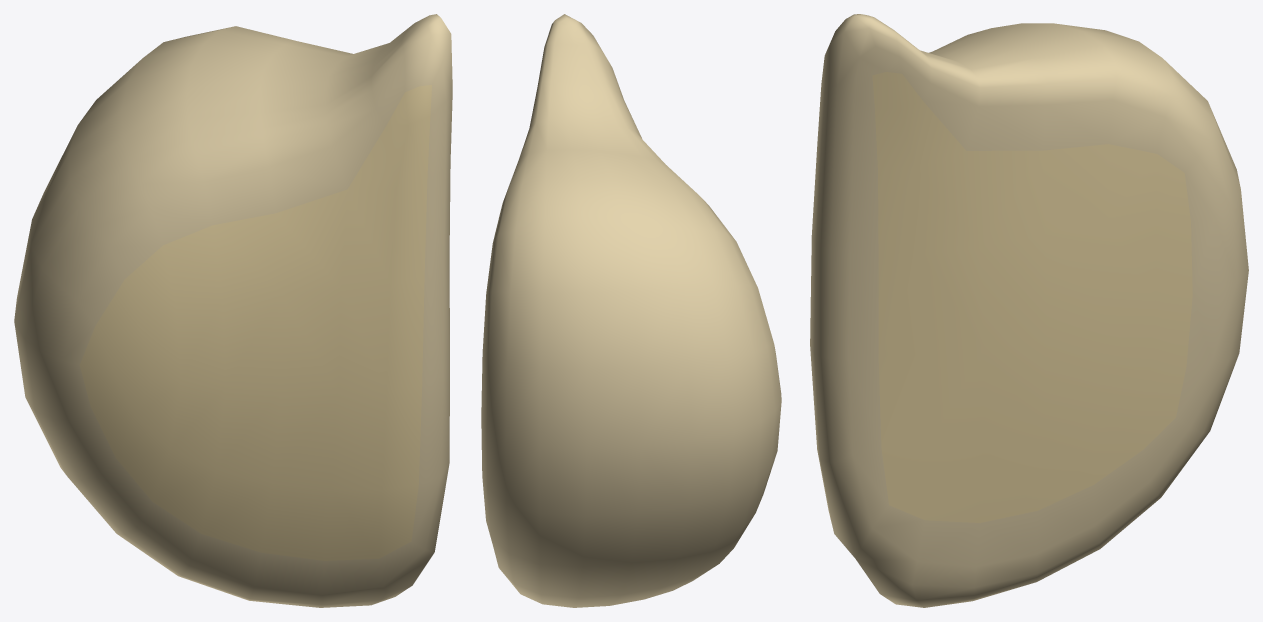
The model's file is Garlicclove_01.dae.
The picture shows the model from 3 angles, left to right: view 1: azimuth 30°, elevation 25°; view 2: azimuth 150°, elevation 25°; view 3: azimuth 270°, elevation 25°; orthographic projection. The views are drawn at different scales.
Parts seen in each view (by area): view 1: Garlicclove_01_LOD0; view 2: Garlicclove_01_LOD0; view 3: Garlicclove_01_LOD0.
Boxes of the visible parts, left/top/right/bottom form: Garlicclove_01_LOD0: left=14, top=14, right=452, bottom=607; Garlicclove_01_LOD0: left=481, top=14, right=781, bottom=607; Garlicclove_01_LOD0: left=810, top=14, right=1248, bottom=607.
Size of what is drawn, in the model's own units: 1.84 by 2.08 by 3.18.
